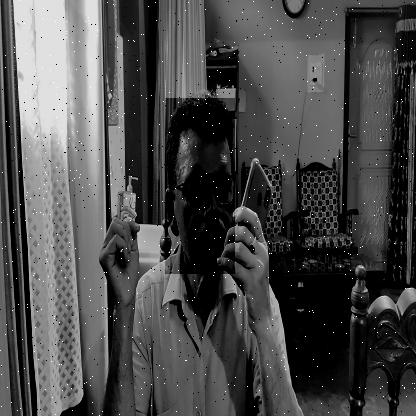Distracted: (165, 99, 235, 274)
